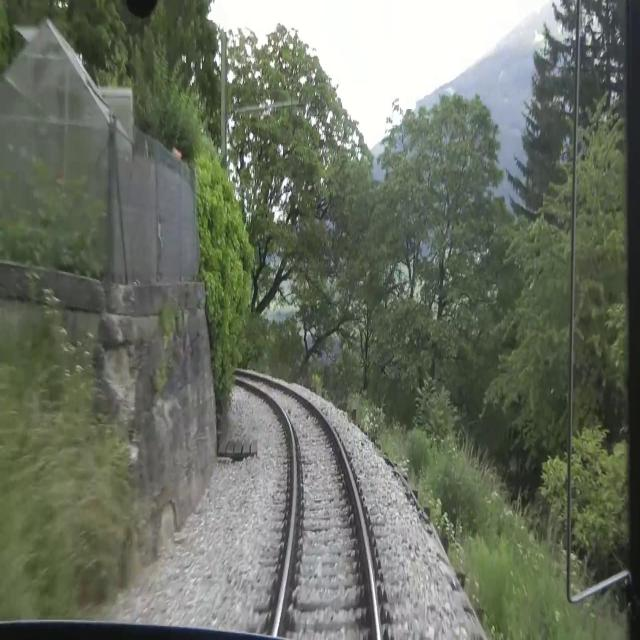rail-track: (235, 374, 375, 639)
